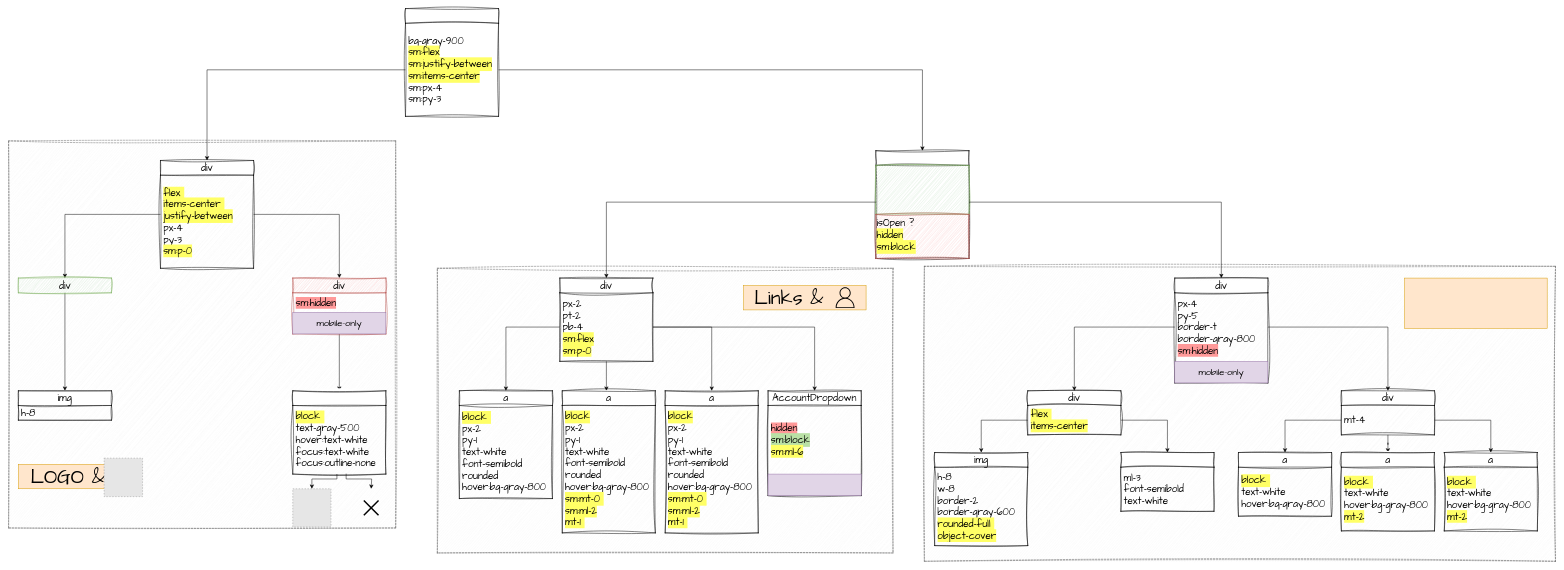
The diagram is 1564 pixels wide and 570 high, and some of its shapes have lost their labels. Grey dashed boxes stand in for pictures. Here are the shapes that lost their labels. From the top down, the box of each, then its label:
(405, 8, 499, 116): header
(875, 165, 969, 214): isOpen ? block sm:block
(875, 150, 969, 258): nav
(1404, 278, 1547, 328): profile options mobile-only
(292, 390, 386, 474): button
(768, 474, 861, 496): desktop-only
(1120, 452, 1214, 511): span
